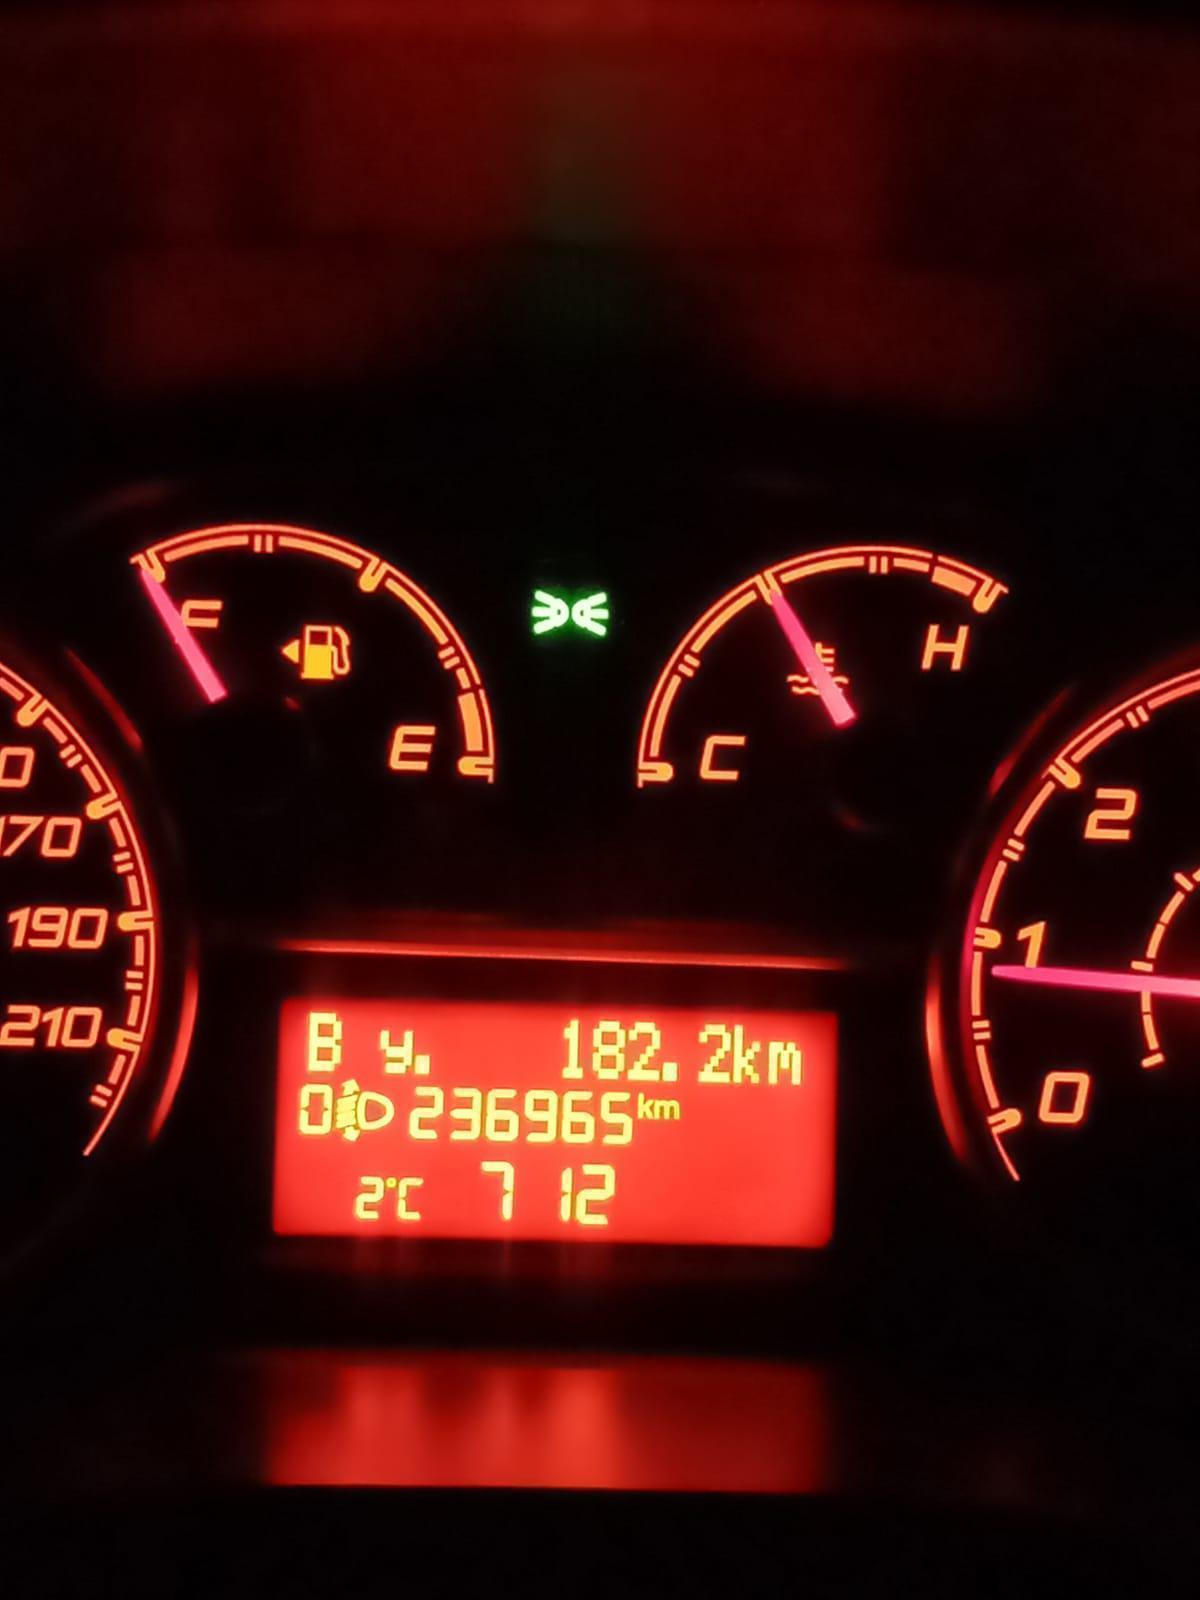,: (661, 1060, 679, 1082), (413, 1053, 432, 1076)
0: (297, 1082, 333, 1135)
1: (560, 1018, 584, 1080), (557, 1167, 574, 1222)
2: (575, 1163, 616, 1226), (696, 1022, 734, 1083), (626, 1020, 661, 1082), (408, 1085, 444, 1140), (353, 1174, 384, 1220)
3: (447, 1085, 482, 1140)
5: (597, 1090, 633, 1145)
6: (484, 1087, 521, 1141), (560, 1090, 596, 1144)
7: (478, 1160, 516, 1220)
8: (591, 1019, 626, 1081)
9: (522, 1089, 558, 1141)
X: (306, 1010, 343, 1072), (731, 1023, 761, 1083), (765, 1039, 803, 1085), (378, 1028, 413, 1075), (395, 1175, 424, 1221), (653, 1099, 681, 1120), (637, 1092, 654, 1120)
odometer: (263, 990, 843, 1254)
